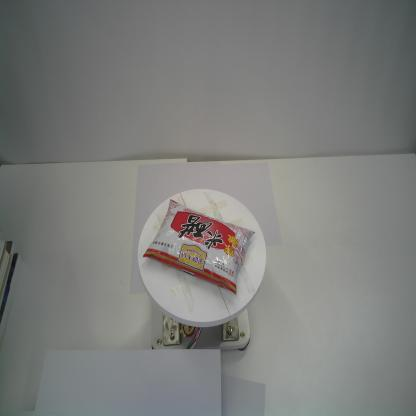Seasoner: (141, 195, 257, 300)
